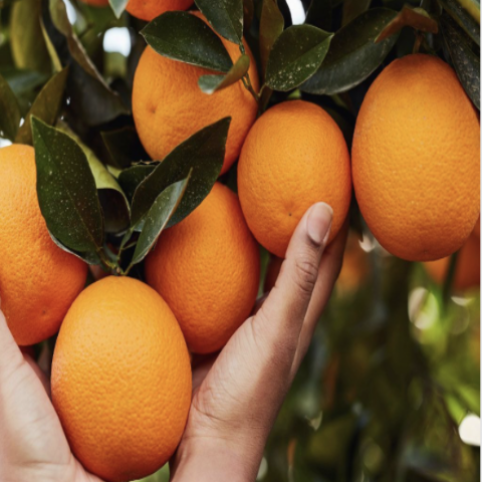orange: (37, 270, 202, 478), (330, 40, 479, 264), (231, 79, 358, 265)
